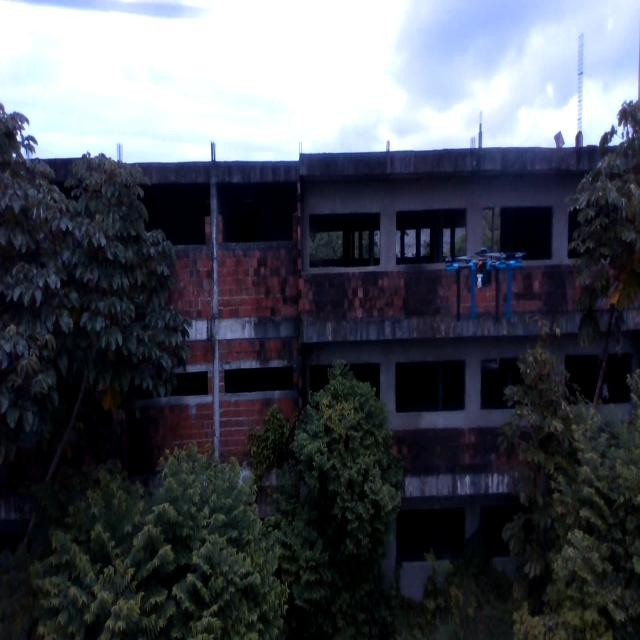-uav-: (439, 237, 532, 327)
